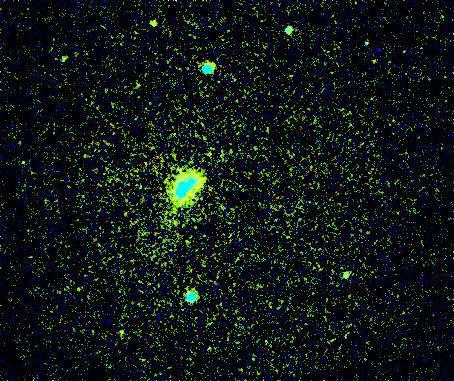star: (138, 6, 168, 36)
